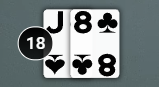8: (69, 7, 96, 37)
j: (43, 8, 69, 35)
